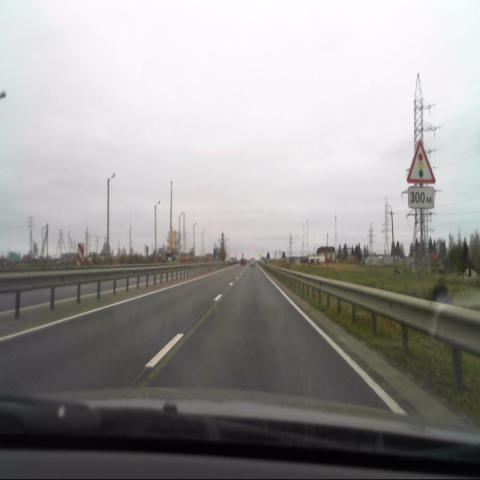1_8: (408, 140, 436, 183)
